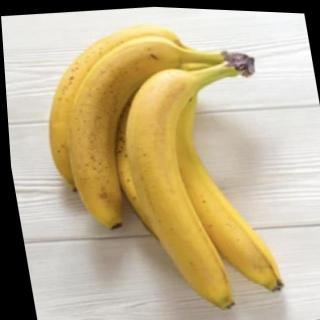banana: (46, 28, 210, 239), (108, 62, 240, 320), (142, 70, 286, 302), (28, 16, 205, 202)
